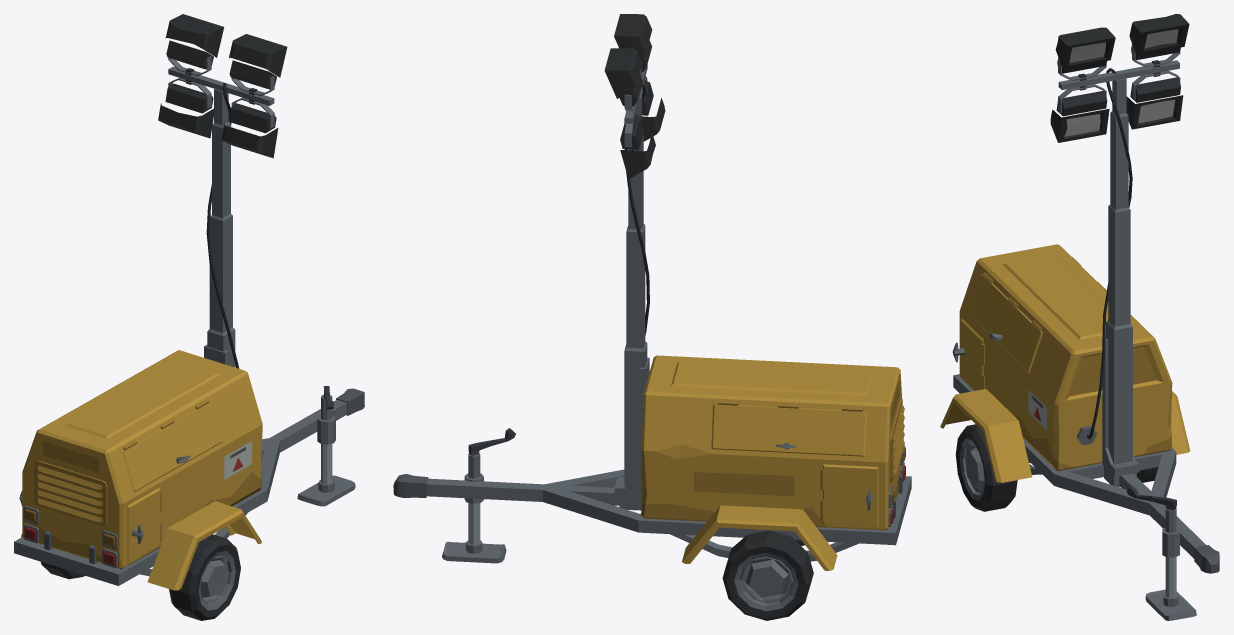
File: generator.gltf
3 views of the same model, side by side, from view 1: azimuth 30°, elevation 25°; view 2: azimuth 150°, elevation 25°; view 3: azimuth 270°, elevation 25° (orthographic). The views are drawn at different scales.
Parts seen in each view (by area): view 1: SM_Prop_Floodlights_01; view 2: SM_Prop_Floodlights_01; view 3: SM_Prop_Floodlights_01.
Boxes of the visible parts, x1,y1,x2,y2 form: SM_Prop_Floodlights_01: [14, 14, 364, 620]; SM_Prop_Floodlights_01: [393, 14, 911, 620]; SM_Prop_Floodlights_01: [940, 14, 1219, 620].
Bounding box in the file's own units: 3.37 × 3.94 × 1.91.
Materials: 1 (1 with a texture image).
